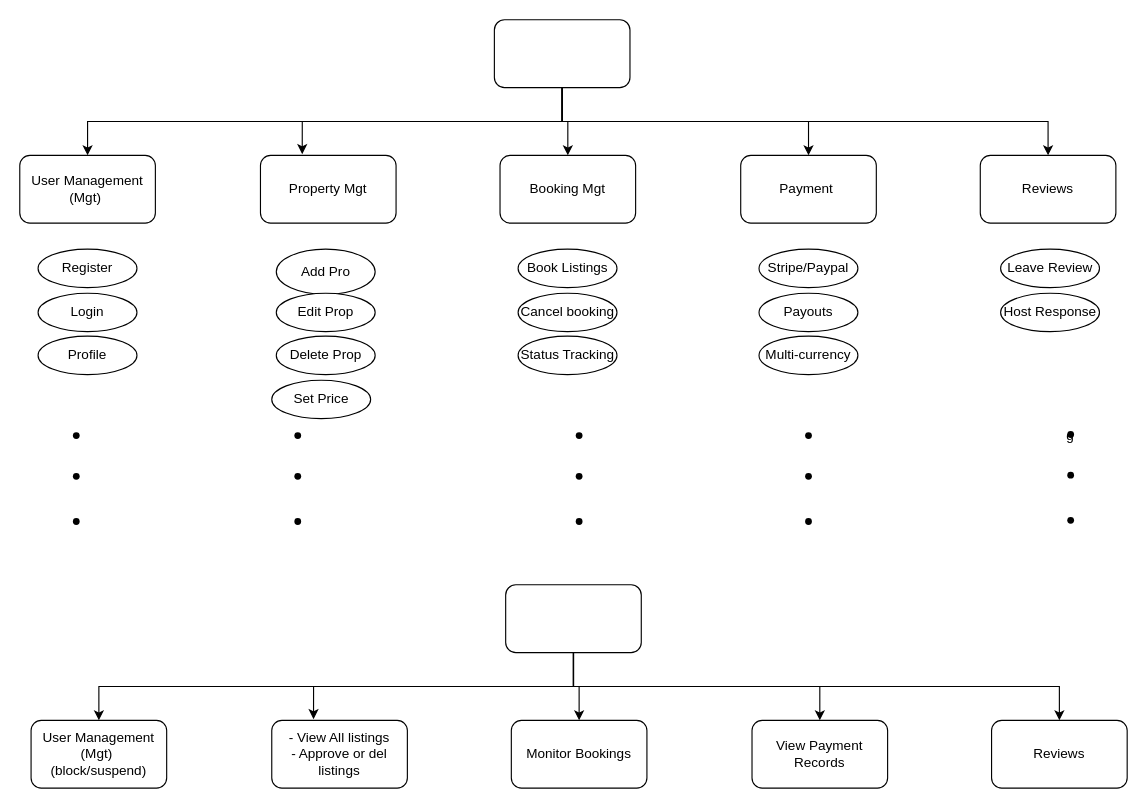
This 1147x808 diagram has some shape labels left out. Each missing label, with the centre of its shape:
Admin Dashboard: the point at 573,618
Airbnb Clone – Backend Features: the point at 561,53
